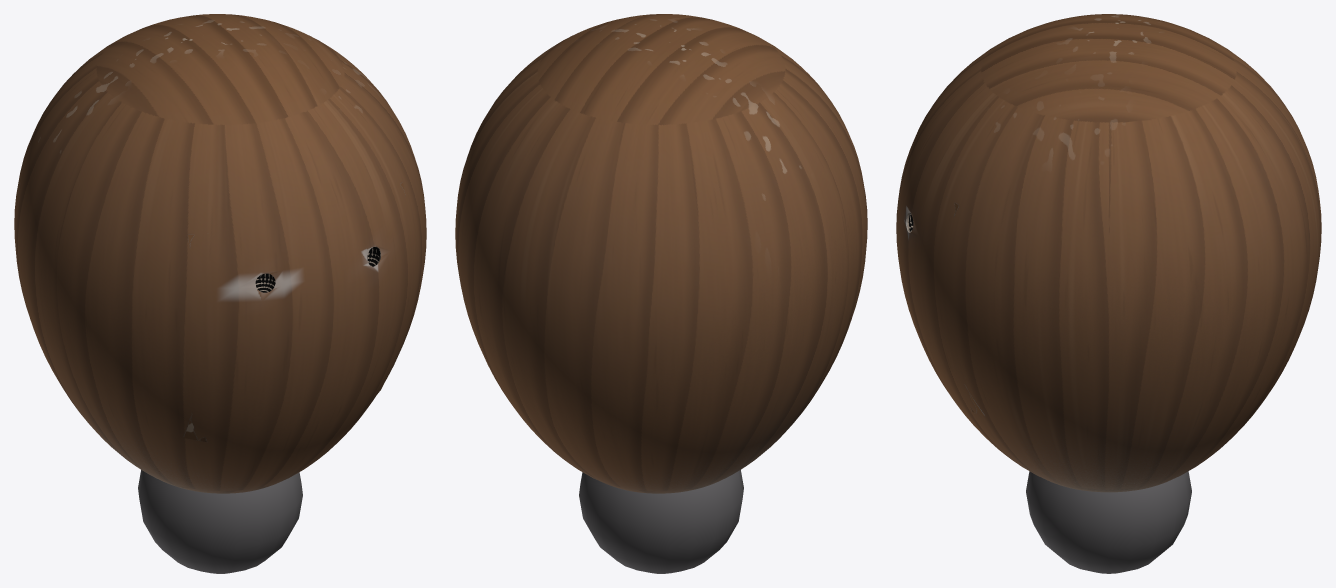
The model's file is Head.glb.
The picture shows the model from 3 angles, left to right: view 1: azimuth 30°, elevation 25°; view 2: azimuth 150°, elevation 25°; view 3: azimuth 270°, elevation 25°; orthographic projection.
Visible parts, largest first — view 1: Head, Head_Ball, FacePlate; view 2: Head, Head_Ball; view 3: Head, Head_Ball.
Part boxes in pixels (x1,y1,x2,y2): Head: (14,14,426,493); Head_Ball: (138,470,302,573); FacePlate: (184,183,405,441); Head: (455,14,867,493); Head_Ball: (579,470,743,573); Head: (896,14,1321,492); Head_Ball: (1026,471,1191,573).
Bounding box in the file's own units: 0.246 × 0.3533 × 0.2558.
Materials: 3 (2 with a texture image).
